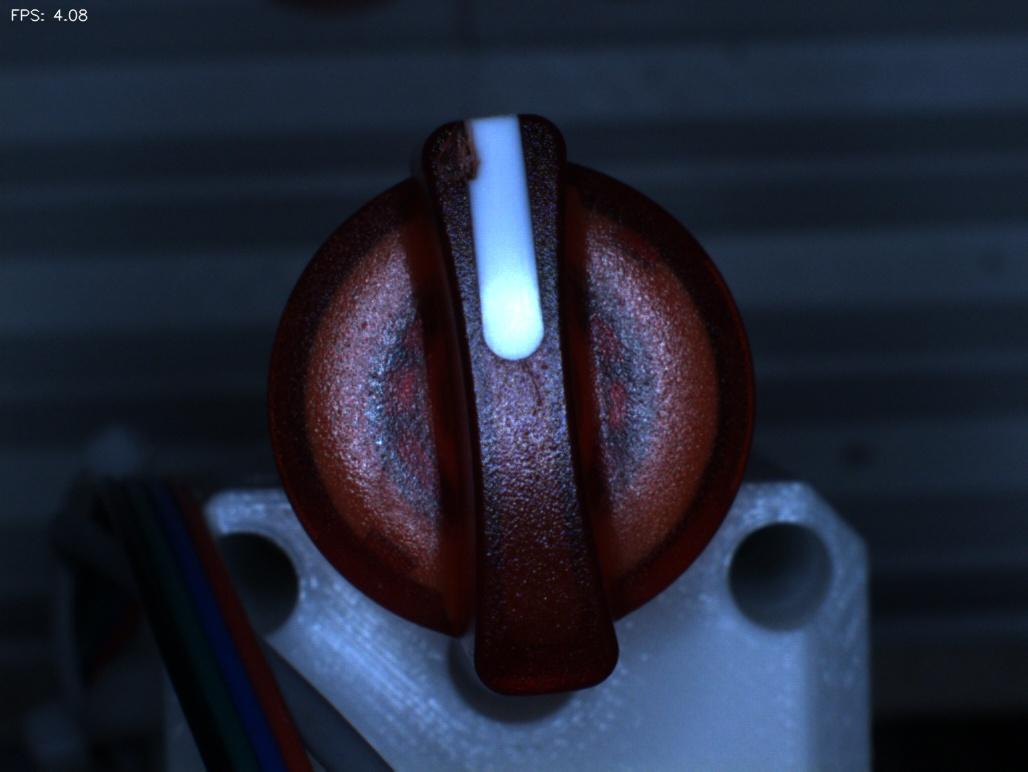Choc: (411, 104, 501, 208)
